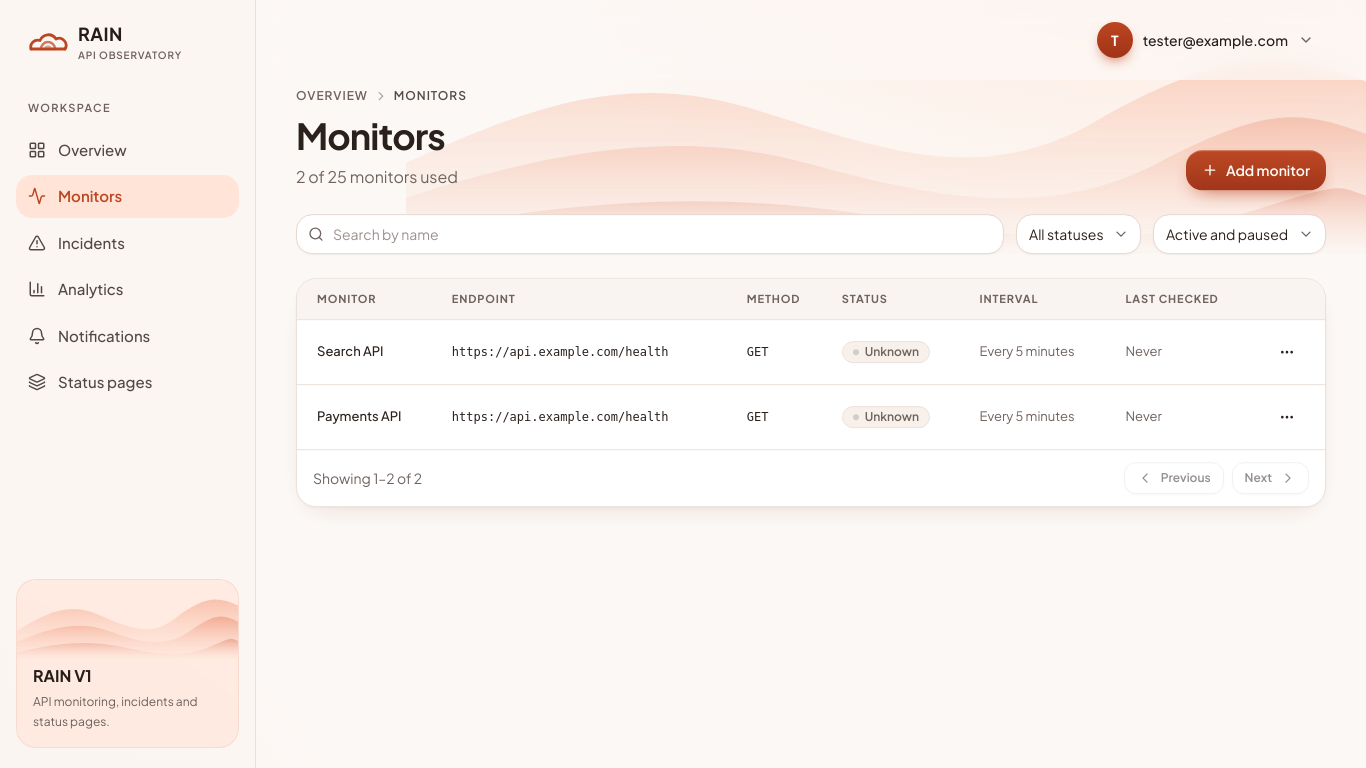
Scenario: monitor registry › searches by name after typing pauses
Expected: the link "Payments API" is shown, 317,408 -> 402,424
In the search field named "search monitors": (650, 234) 296,214 -> 1004,254, type "pay"
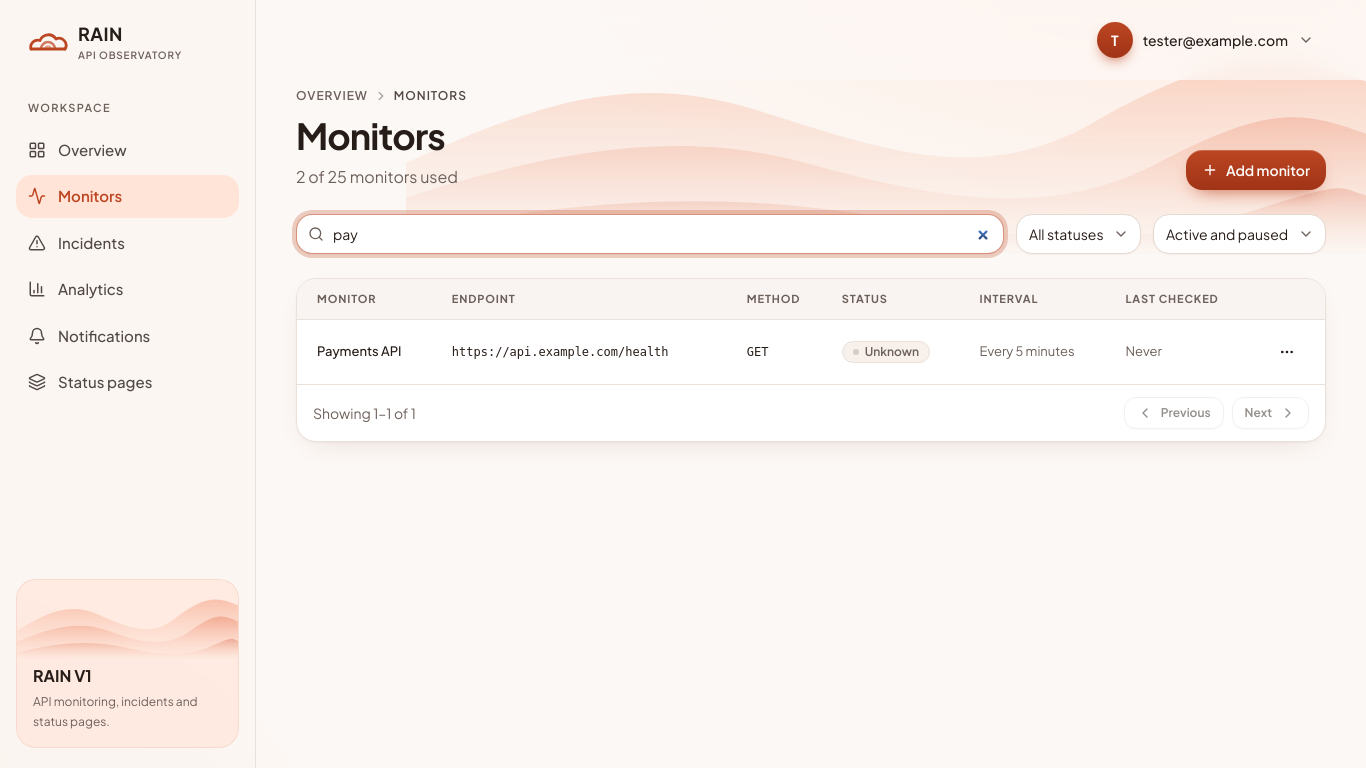
Expected: the link "Payments API" is shown, 317,343 -> 402,359
Now the link "Search API" is gone
